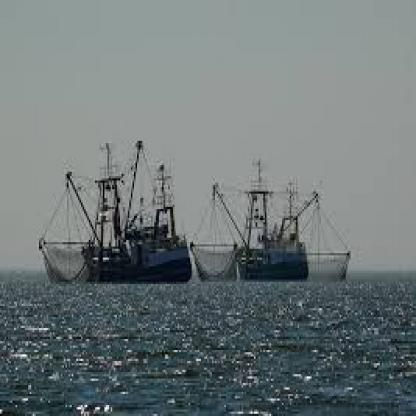fish-b: (29, 119, 198, 301), (186, 160, 366, 304)
